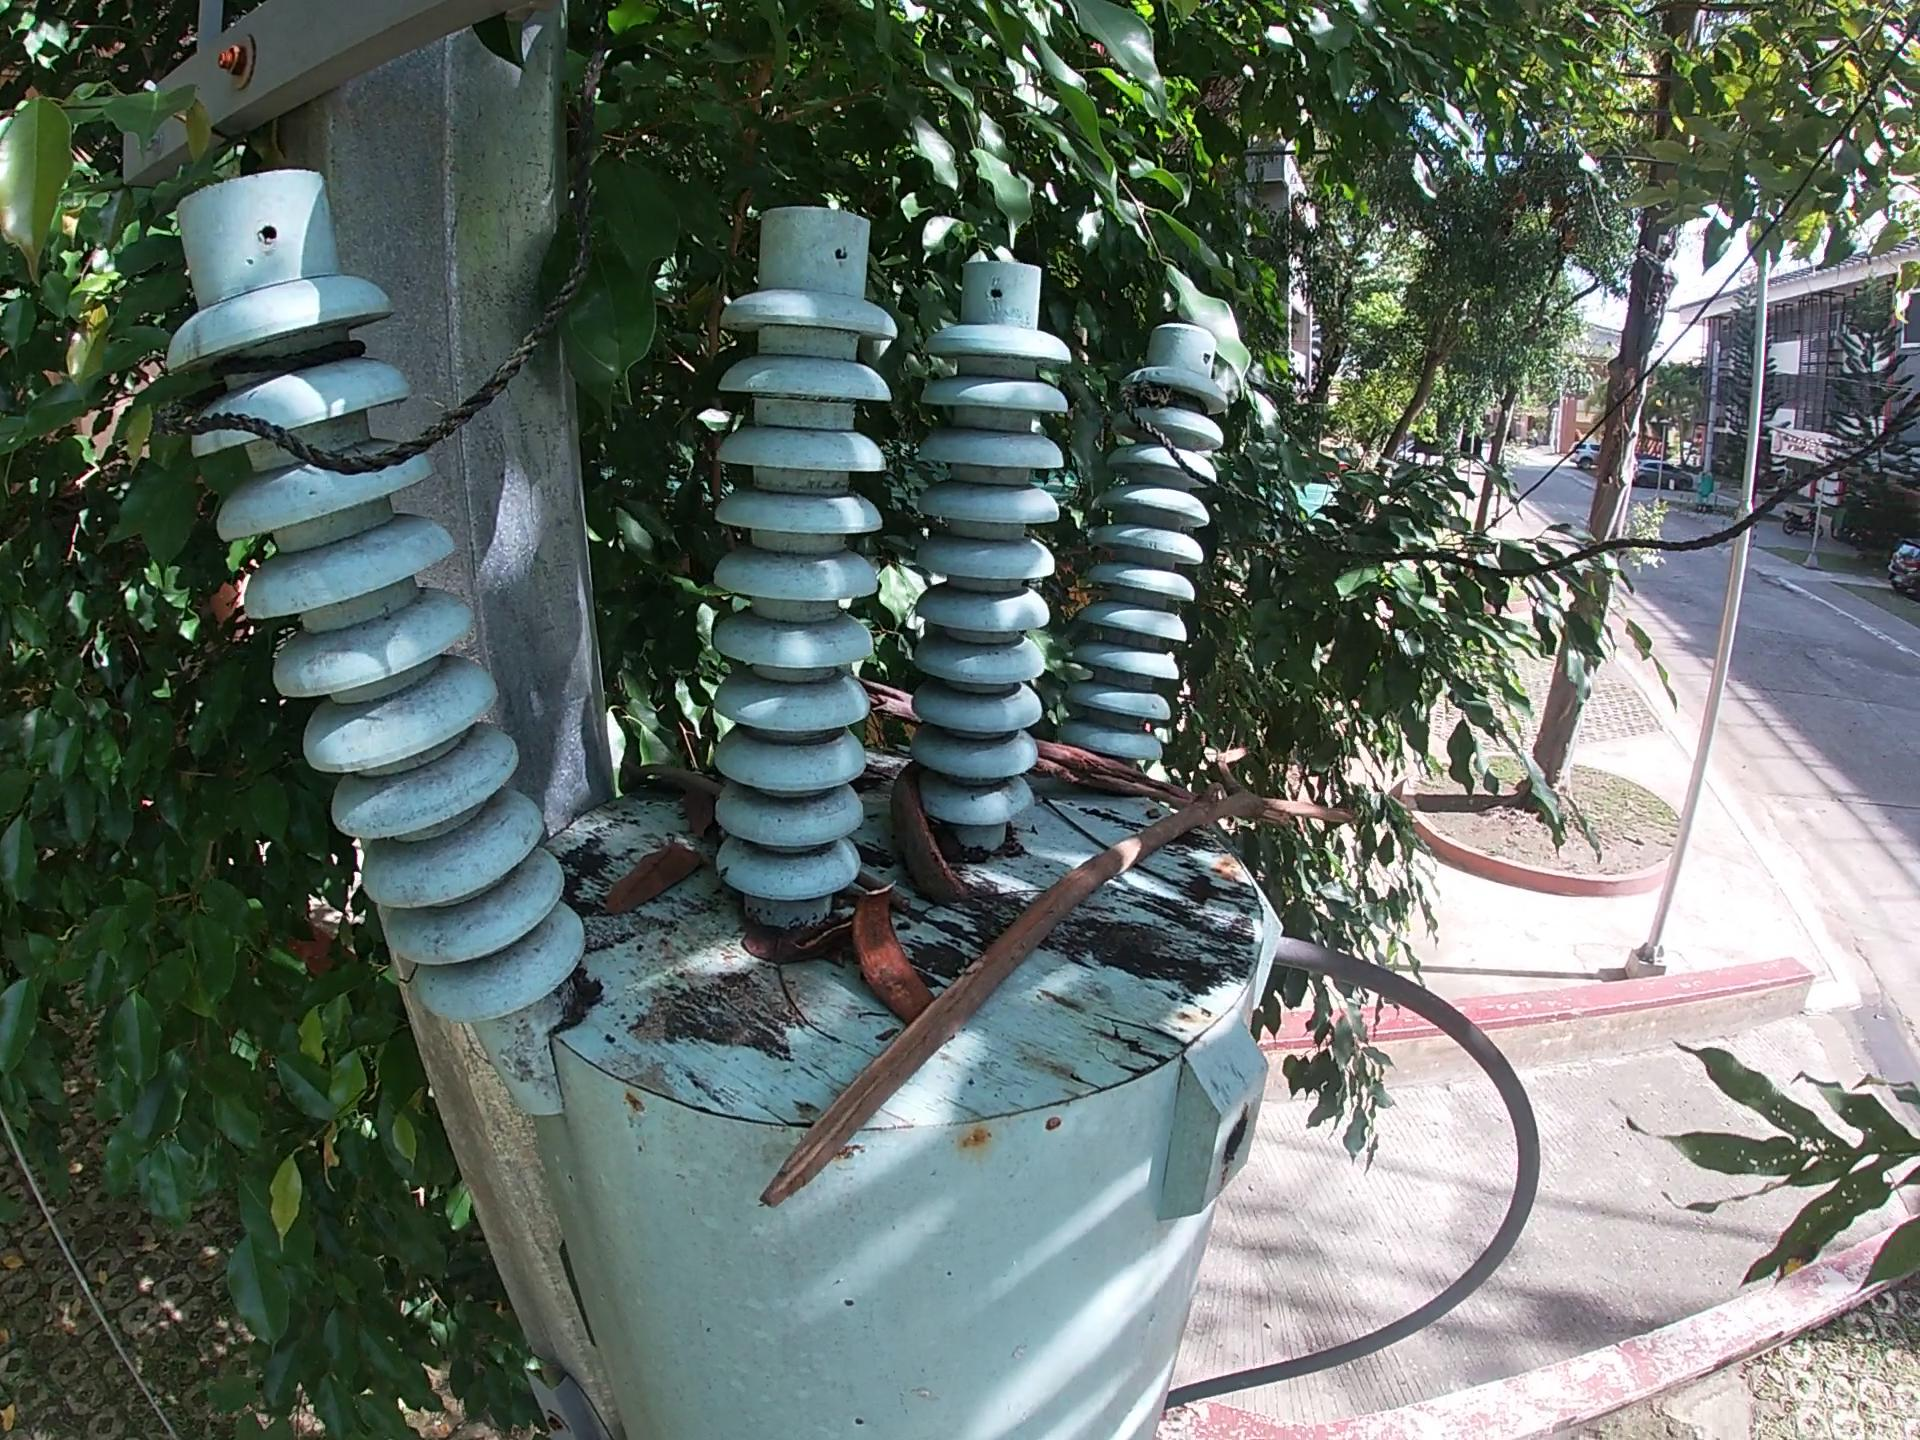leaf: (597, 833, 708, 923), (739, 914, 825, 973), (679, 776, 723, 843)
mahogany fruit: (844, 877, 943, 1030), (886, 756, 975, 905)
tree branch: (754, 737, 1362, 1210), (853, 672, 1208, 811), (620, 761, 726, 794), (856, 871, 921, 917)
